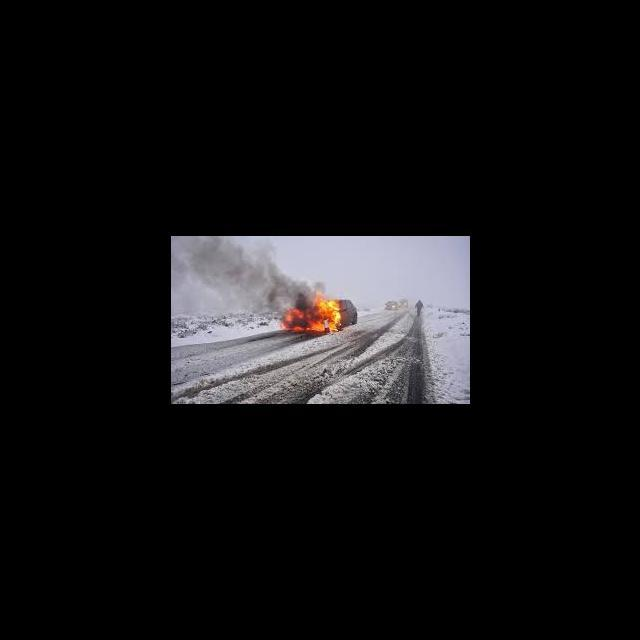Fire: (282, 294, 340, 336)
Smoke: (170, 236, 282, 313)
